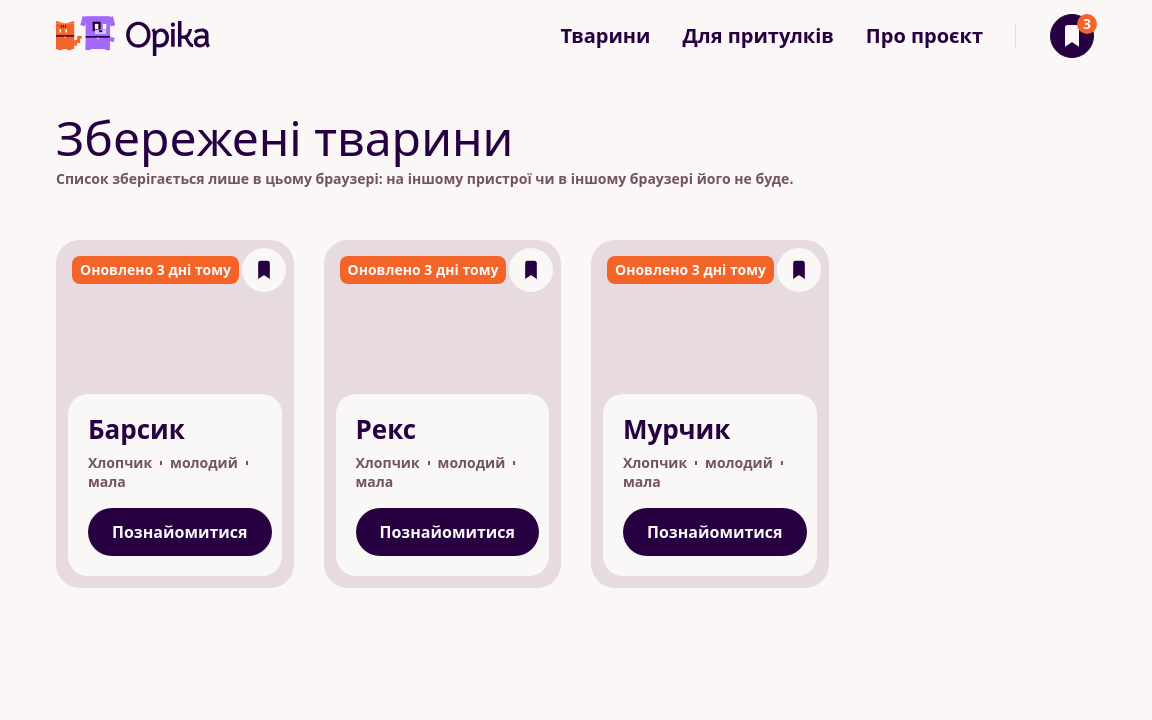
Test case: saved page – the remove bookmark › removing writes the store and the header count at once, shows the toast and announces it
The image size is (1152, 720).
expect the link "Барсик" is shown: met, box [56,240,294,588]
Click the 2nd button named "Прибрати зі збережених": (531, 270) [509,248,553,292]
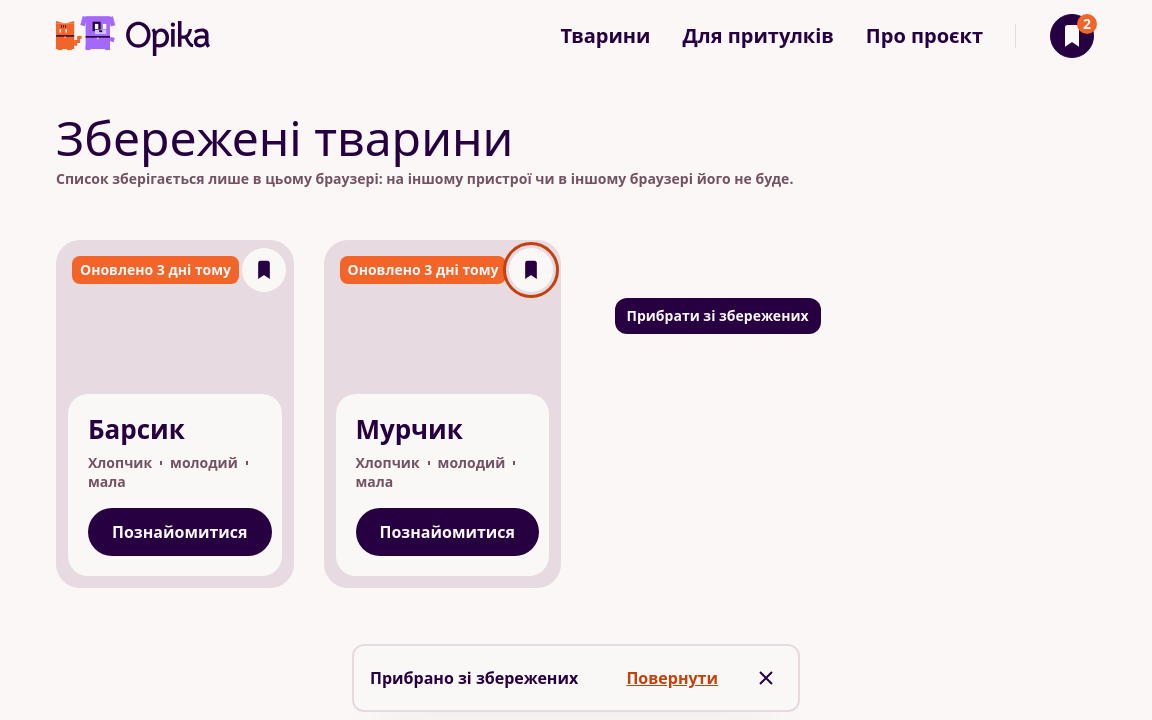
expect the text "Прибрано зі збережених" is shown: met, box [370,667,602,689]
expect the button "Повернути" is shown: met, box [614,654,730,702]
